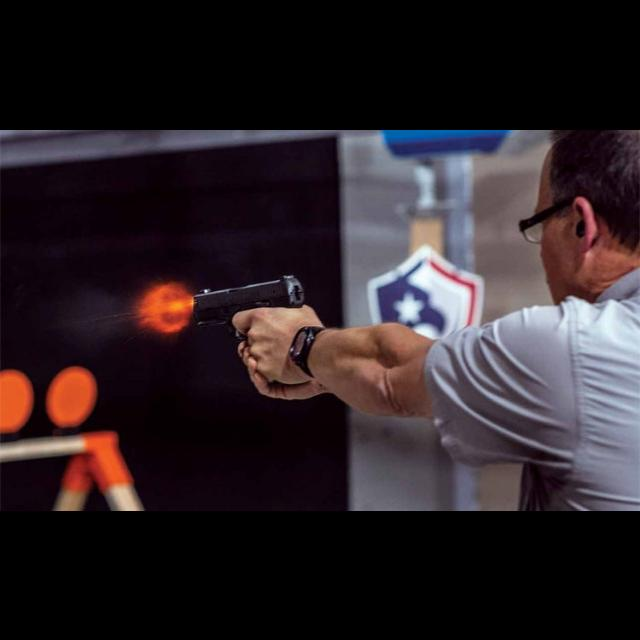handgun: (188, 270, 308, 340)
